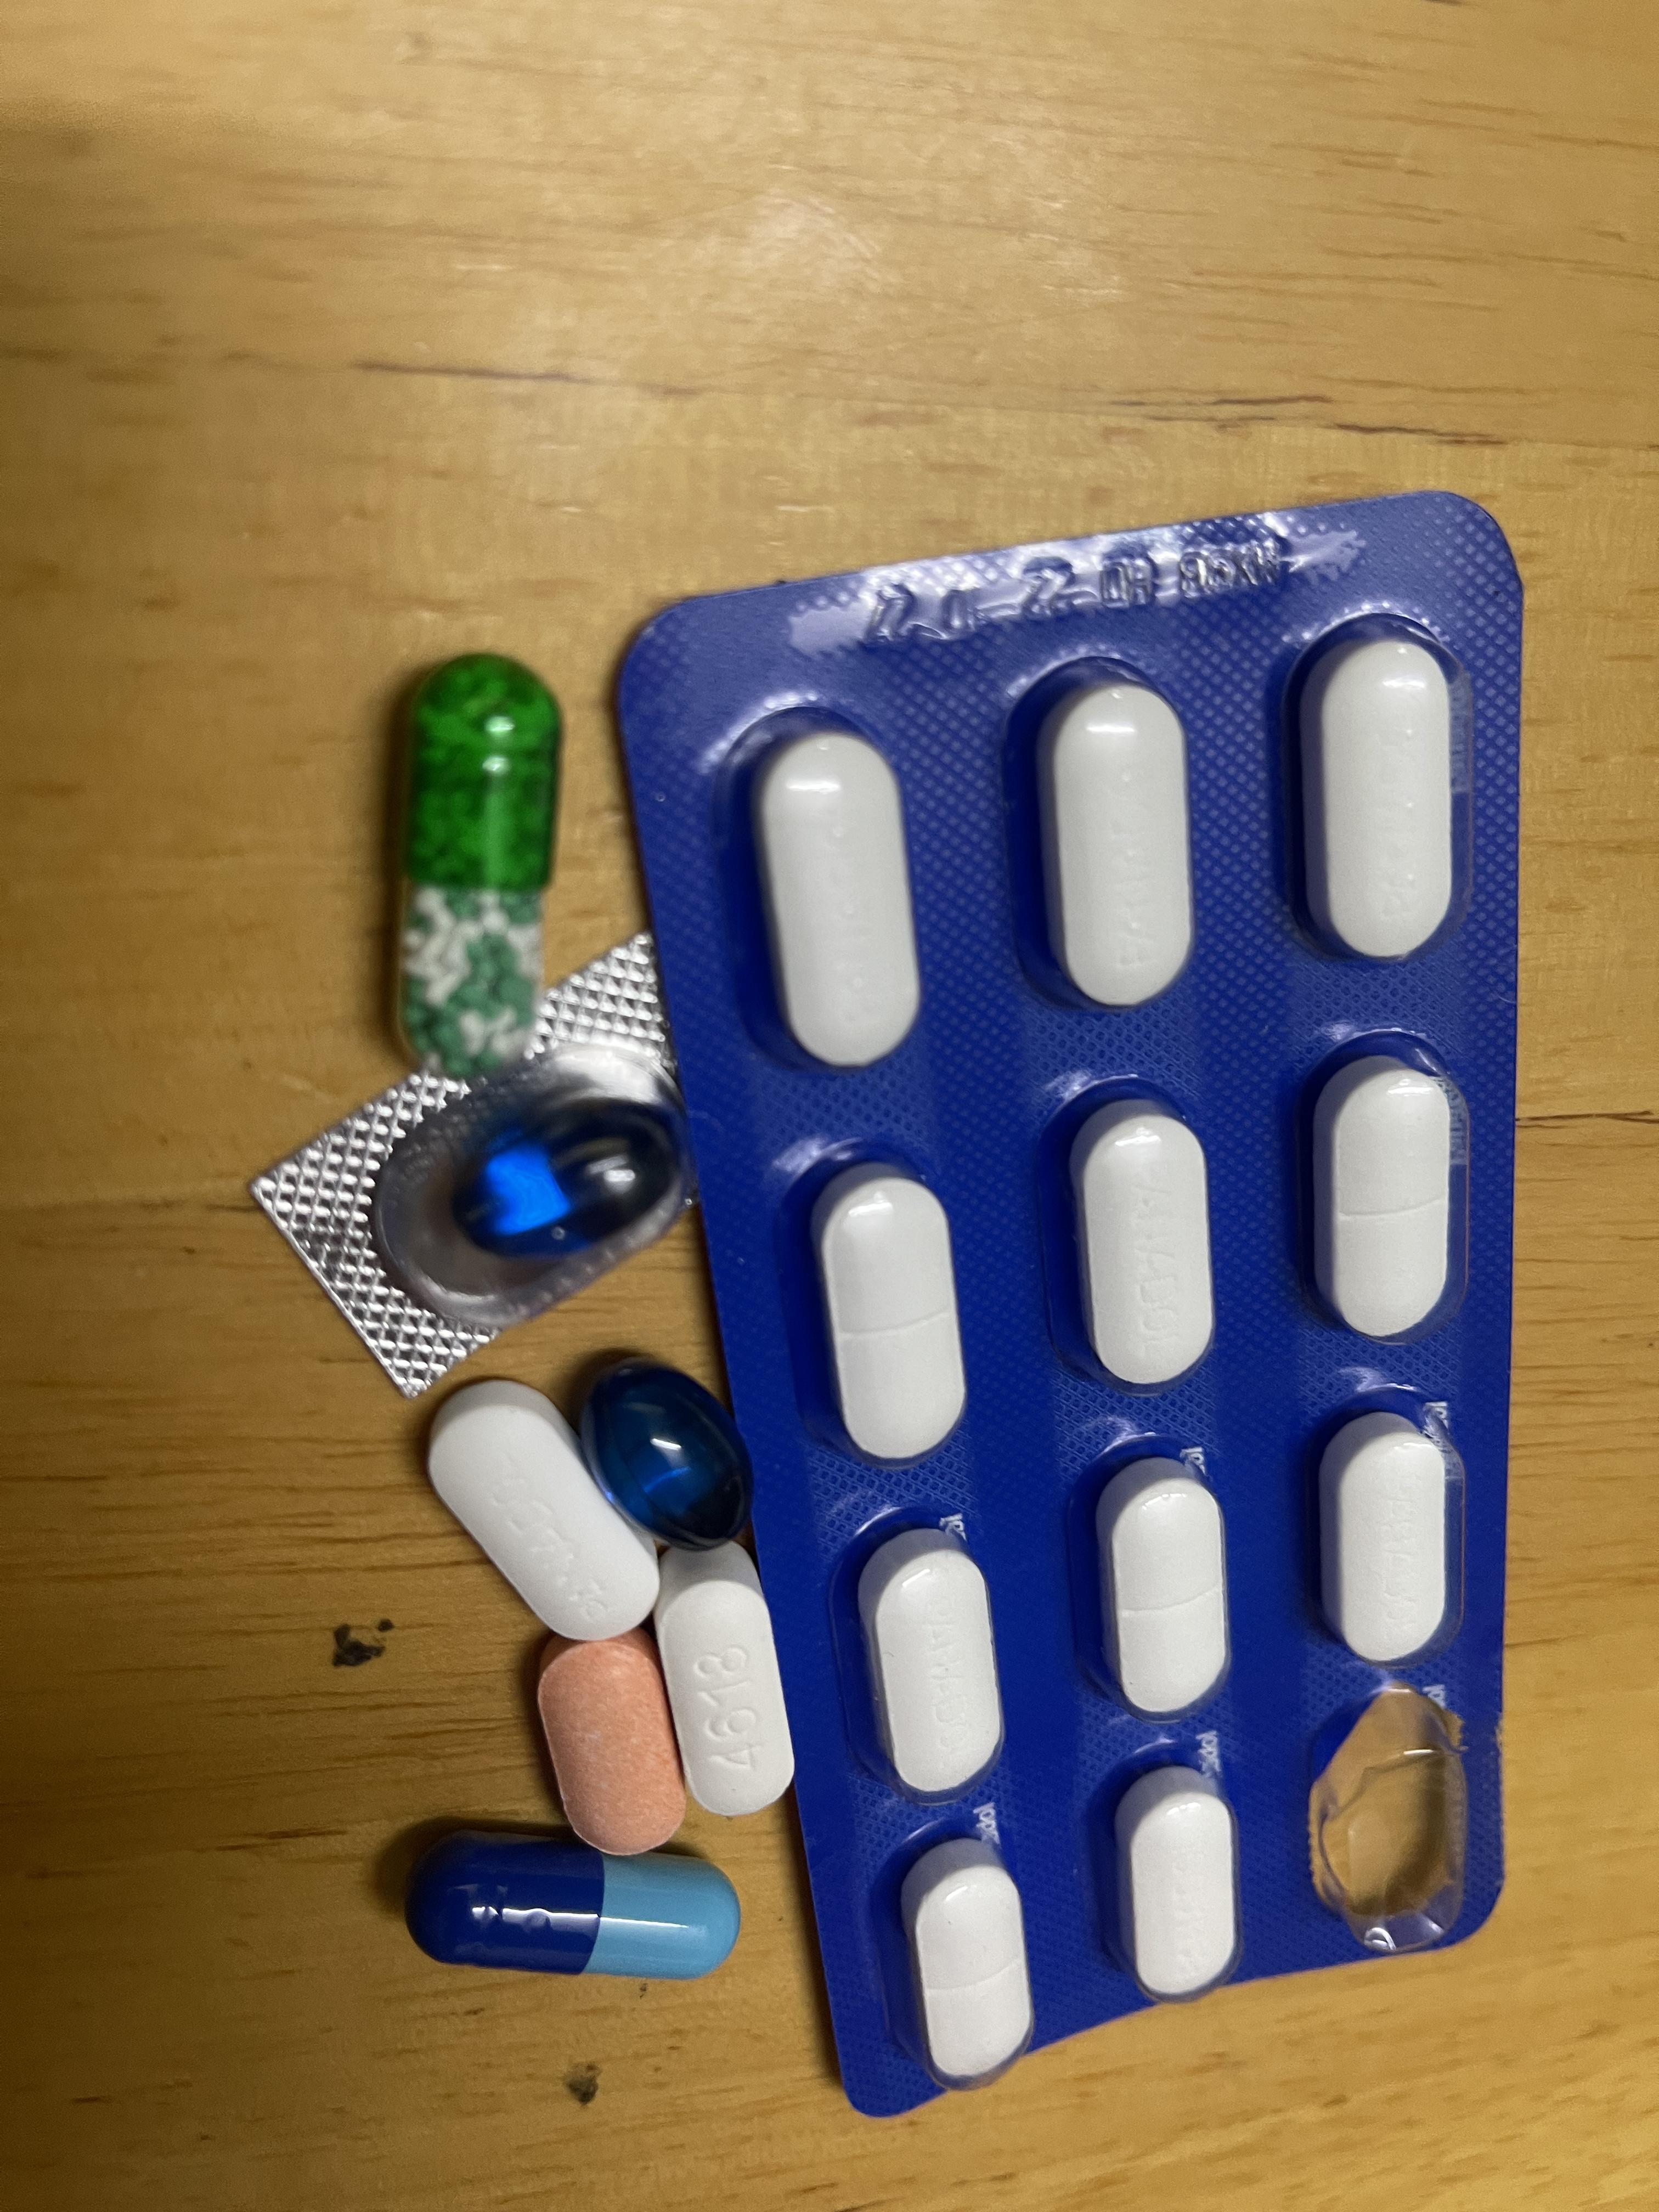Lincomyxin_500mg: (448, 1101, 680, 1256), (580, 1362, 755, 1552)
Loratadine_10mg: (535, 1634, 683, 1850)
Paracetamol_350mg: (753, 726, 927, 1069), (430, 1386, 655, 1642), (1300, 629, 1462, 974), (1039, 678, 1195, 1014), (809, 1169, 972, 1468), (1309, 1057, 1460, 1345), (1072, 1108, 1218, 1399), (852, 1526, 1006, 1797), (1317, 1411, 1455, 1670), (1094, 1460, 1232, 1717), (899, 1838, 1040, 2083), (1112, 1770, 1243, 2001)
Paracetamol_500mg: (650, 1534, 798, 1824)
Paracetamol_650mg: (399, 658, 558, 1054)
pill: (429, 1843, 732, 1973)
